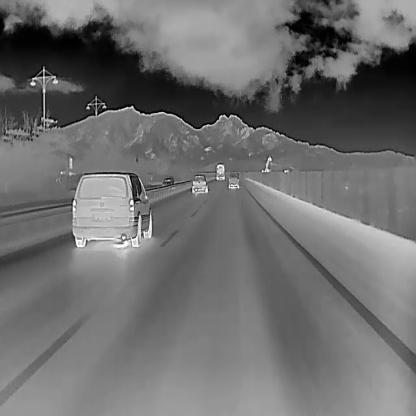car: (70, 169, 152, 247), (190, 174, 208, 192), (227, 171, 239, 188), (161, 176, 175, 190)
truck: (214, 162, 224, 180)
